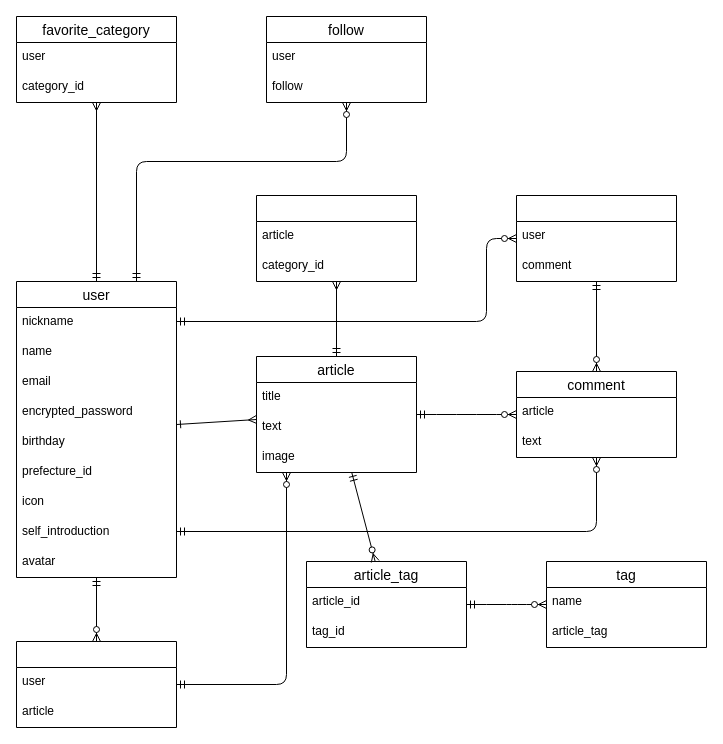
This 723x744 diagram has some shape labels left out. The box of each missing label's shape, as (x1, y1, x2, y2) in pixels:
article_have_category: (256, 194, 416, 282)
favorite_article: (16, 640, 176, 728)
favorite_comment: (516, 194, 676, 282)
